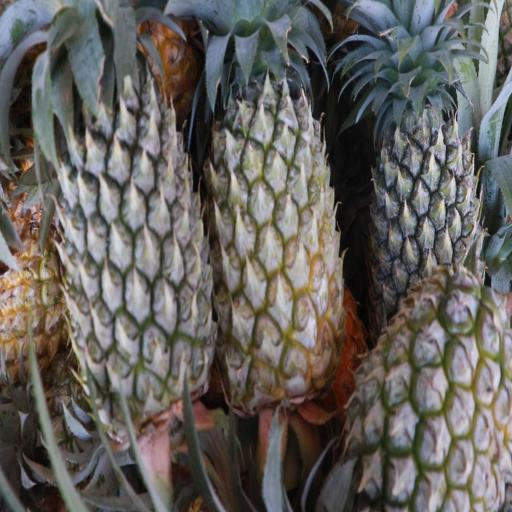------------------------------: (208, 30, 339, 398), (358, 277, 511, 512)
Pineapple - v8 v1: (0, 245, 71, 371)
